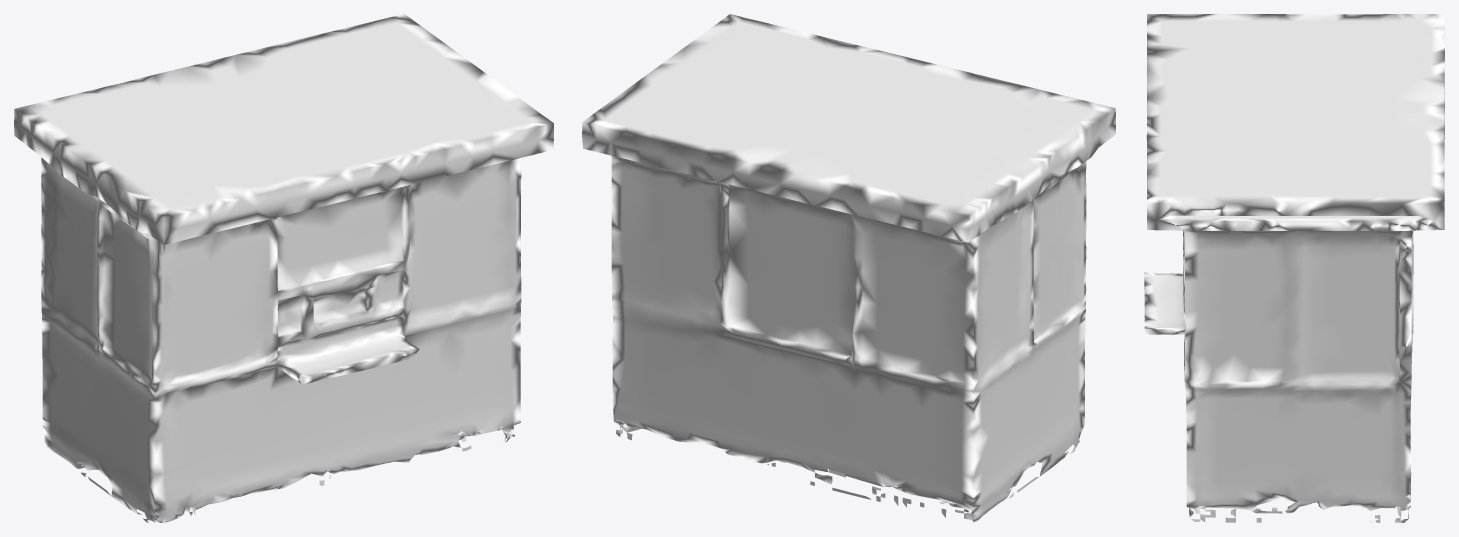
The picture shows the model from 3 angles, left to right: view 1: azimuth 30°, elevation 25°; view 2: azimuth 150°, elevation 25°; view 3: azimuth 270°, elevation 25°; orthographic projection.
Size of the model in its own units: 3.42 by 2.75 by 2.29.
Materials: 1 (1 with a texture image).
